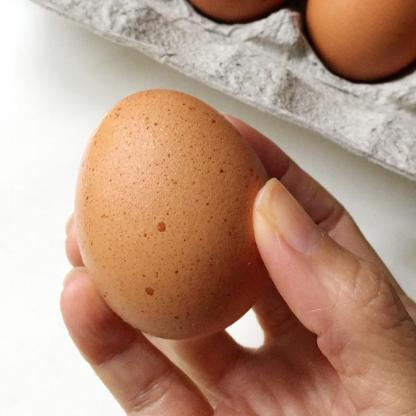egg: (57, 60, 291, 351), (303, 0, 416, 85)
